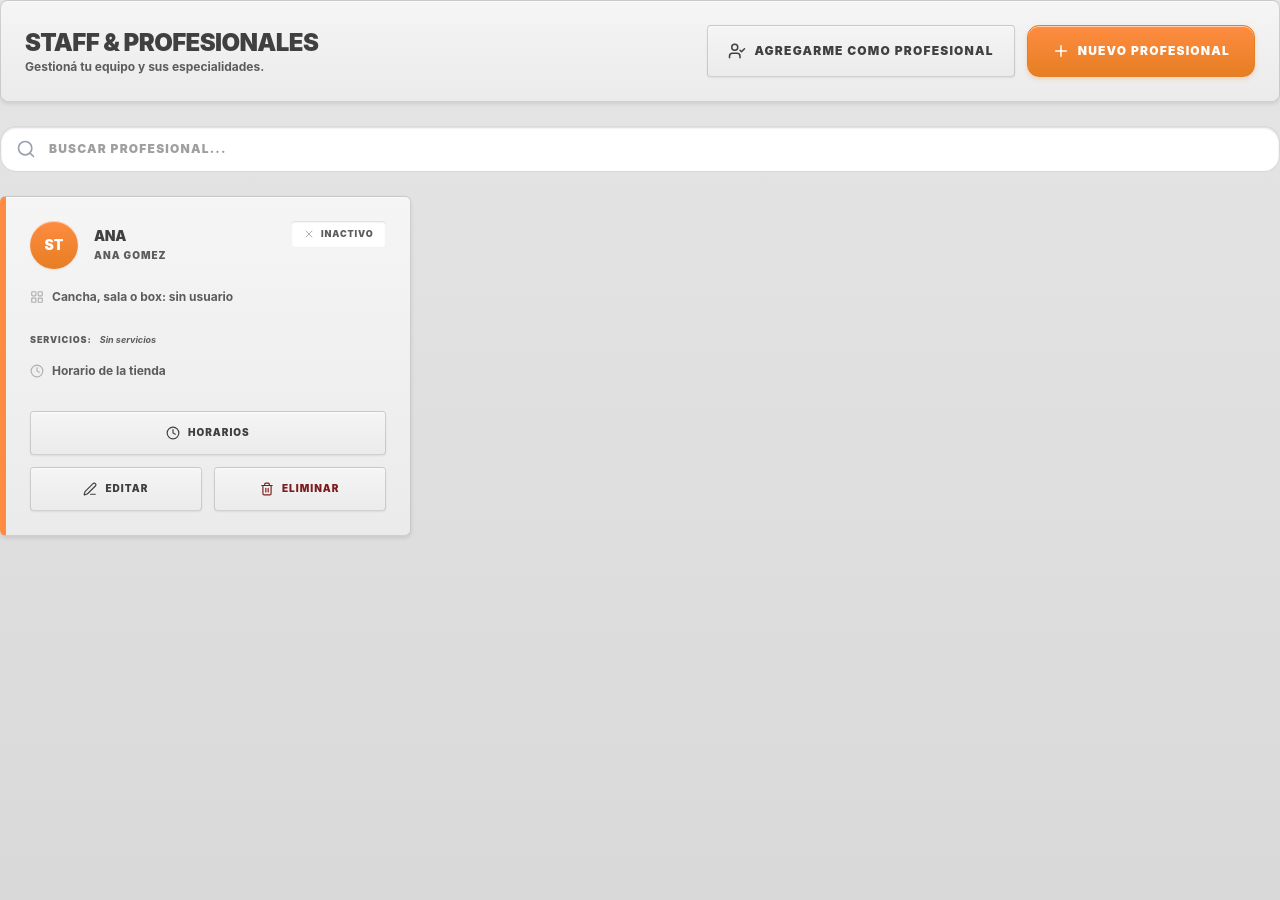
Test: StaffManagementContainer: horarios › Horarios abre el editor con el horario de la tienda y guarda para ese profesional
Click the button "Horarios" at (208, 432), box [30,410,386,454]
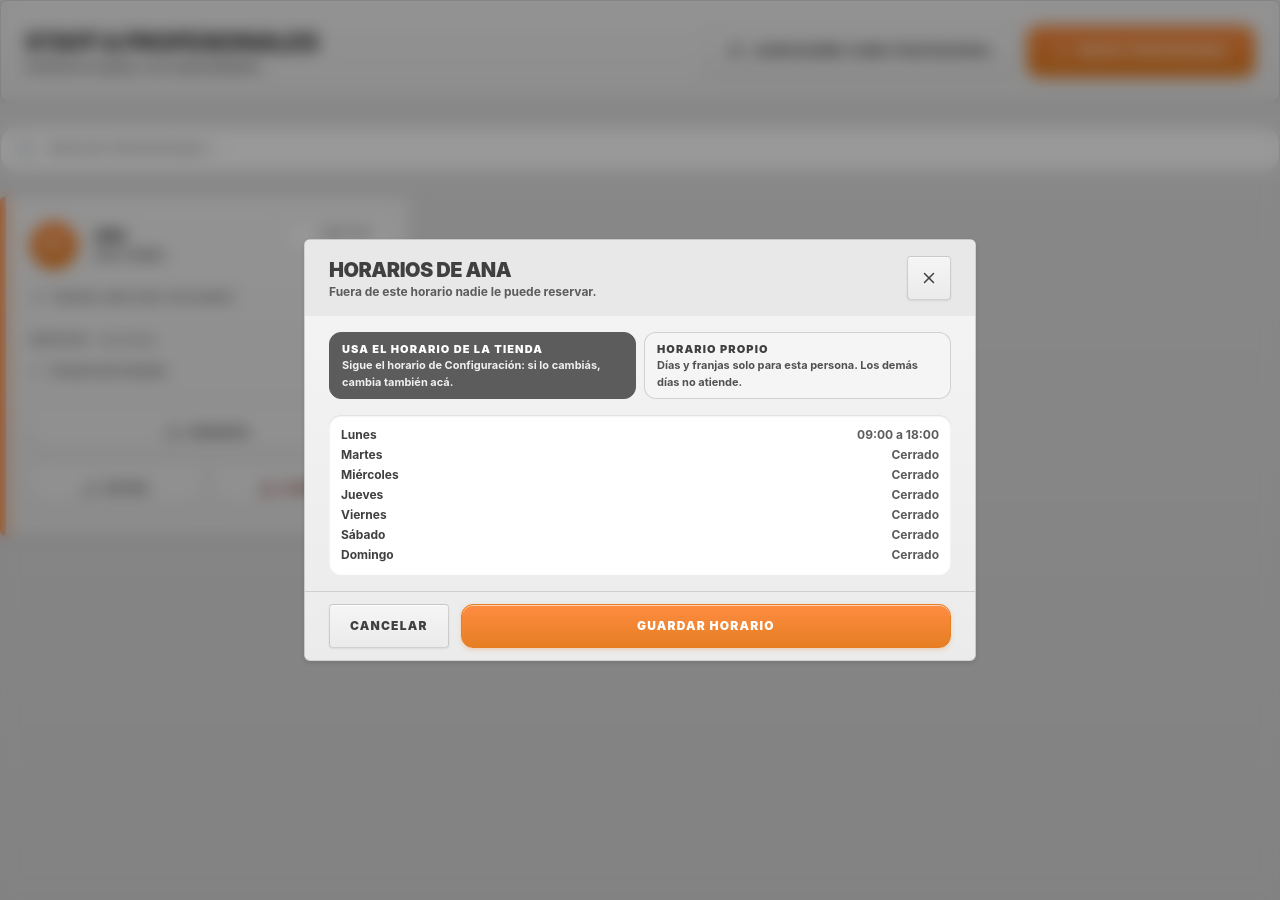
Now the dialog "Horarios de Ana" is shown, box [304,239,976,661]
Click the radio button labelled "Horario propio" at (798, 366), box [644,332,951,399]
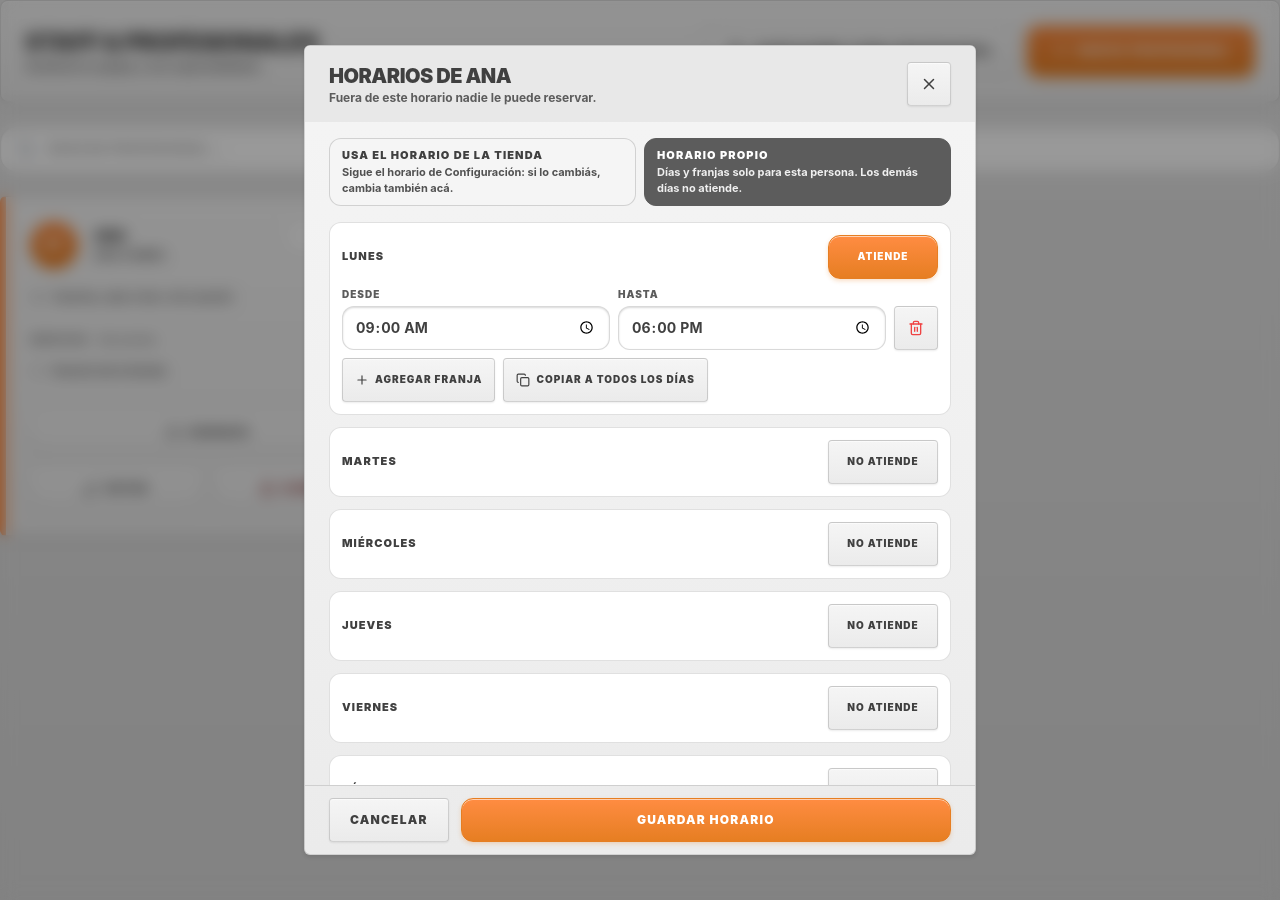
Click the button "Guardar horario" at (706, 820), box [461,798,951,842]
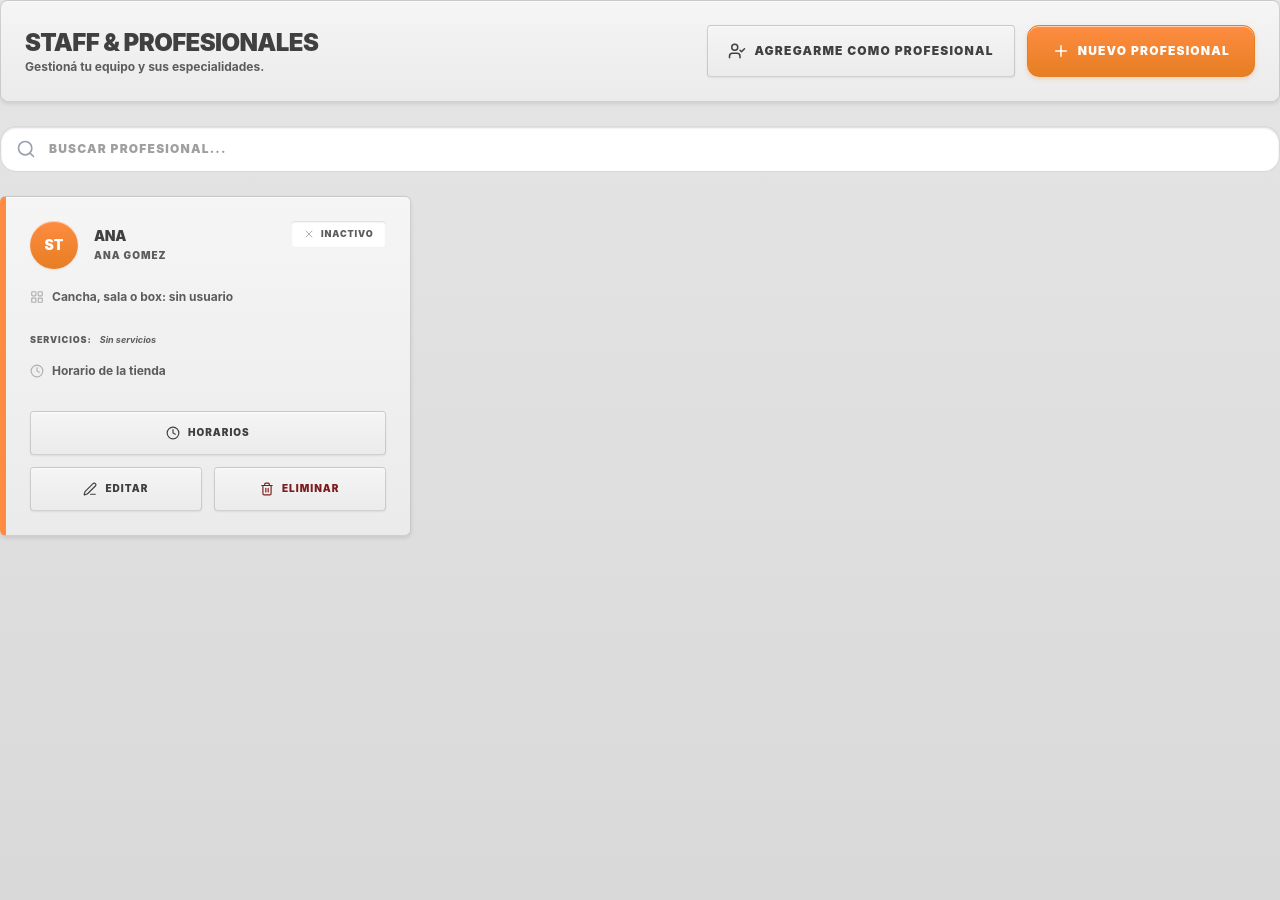
Now the dialog is gone
